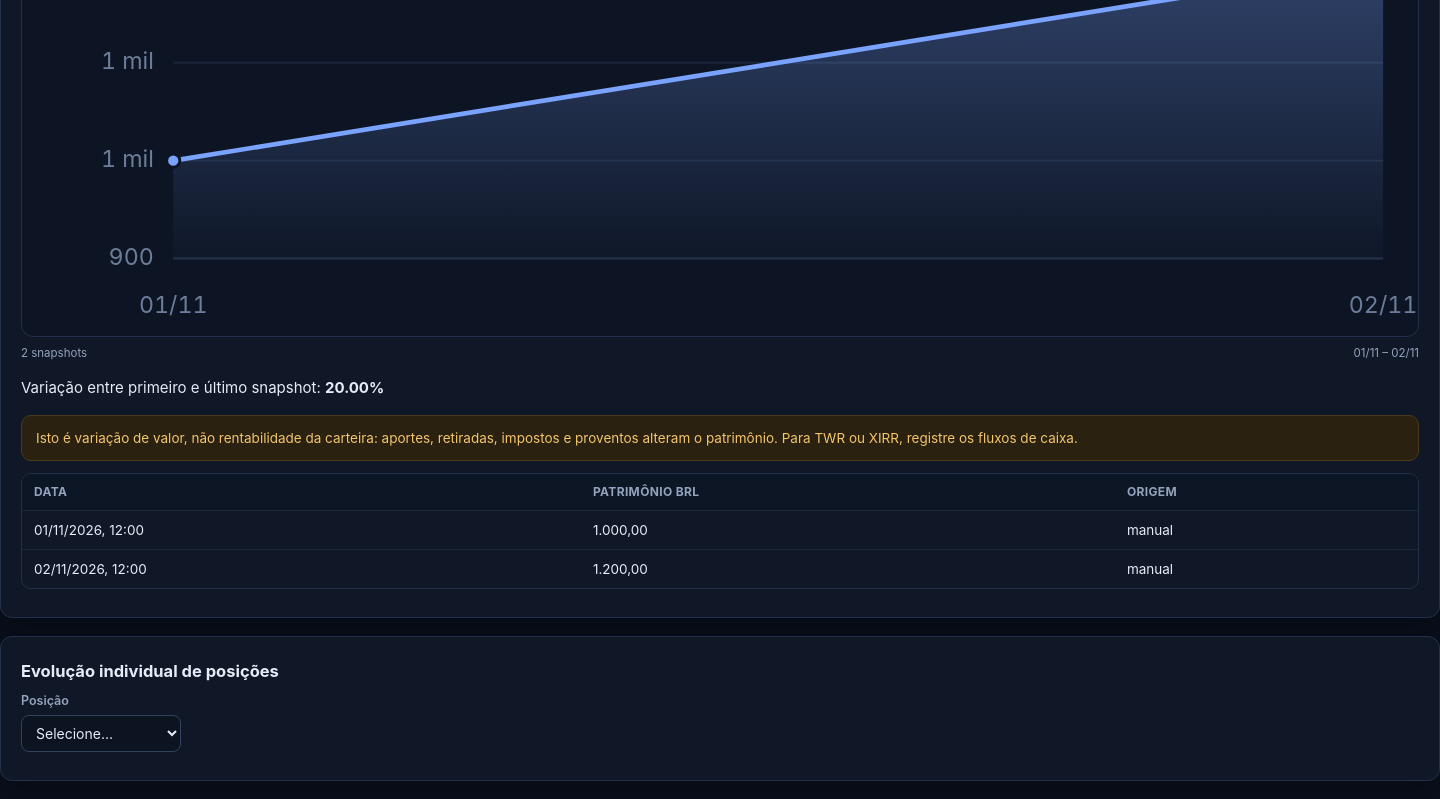
Scenario: HistoricoPage › omite pontos sem valor em BRL em vez de tratá-los como zero
The image size is (1440, 799).
(page scrolled)
Select "PETR4 · XP" in the dropdown: (101, 733) [21,715,181,752]
(page scrolled)
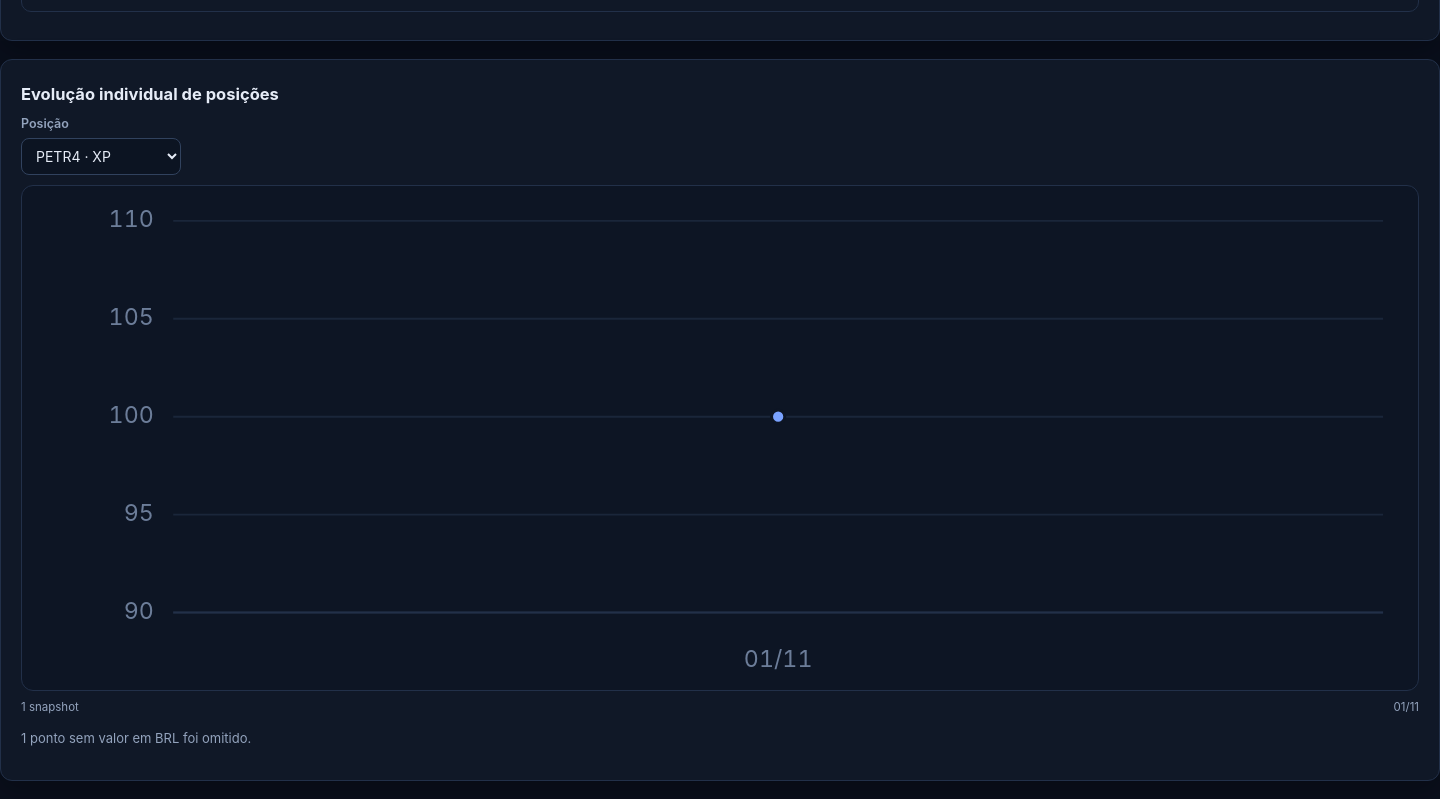
Result: the text "1 ponto sem valor em BRL foi omitido." is shown at [21,730,251,746]
